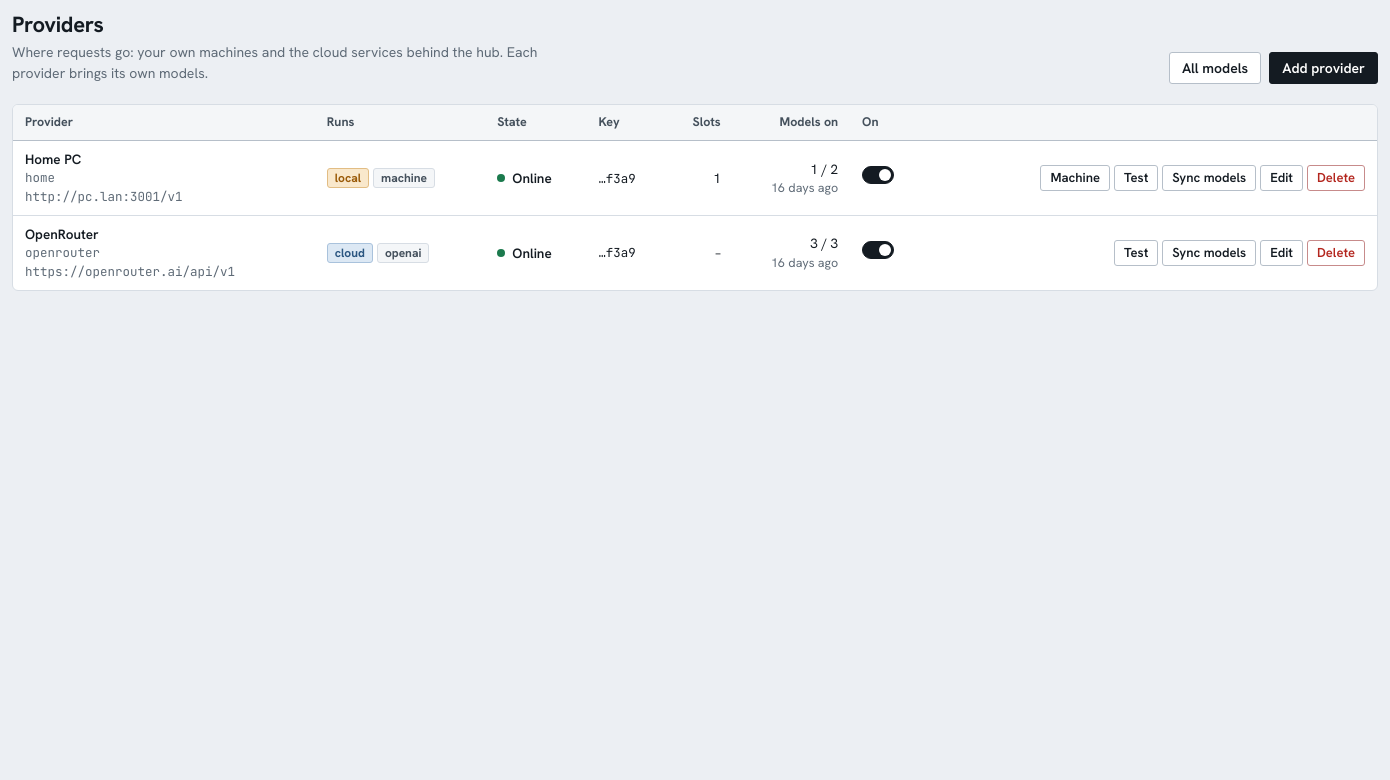
Test: providers › tests a provider and reports both outcomes
This screenshot has width=1390, height=780.
Click the button "Test" in the row of "Home PC" at (1136, 178), box x1=1114 y1=165 x2=1158 y2=191
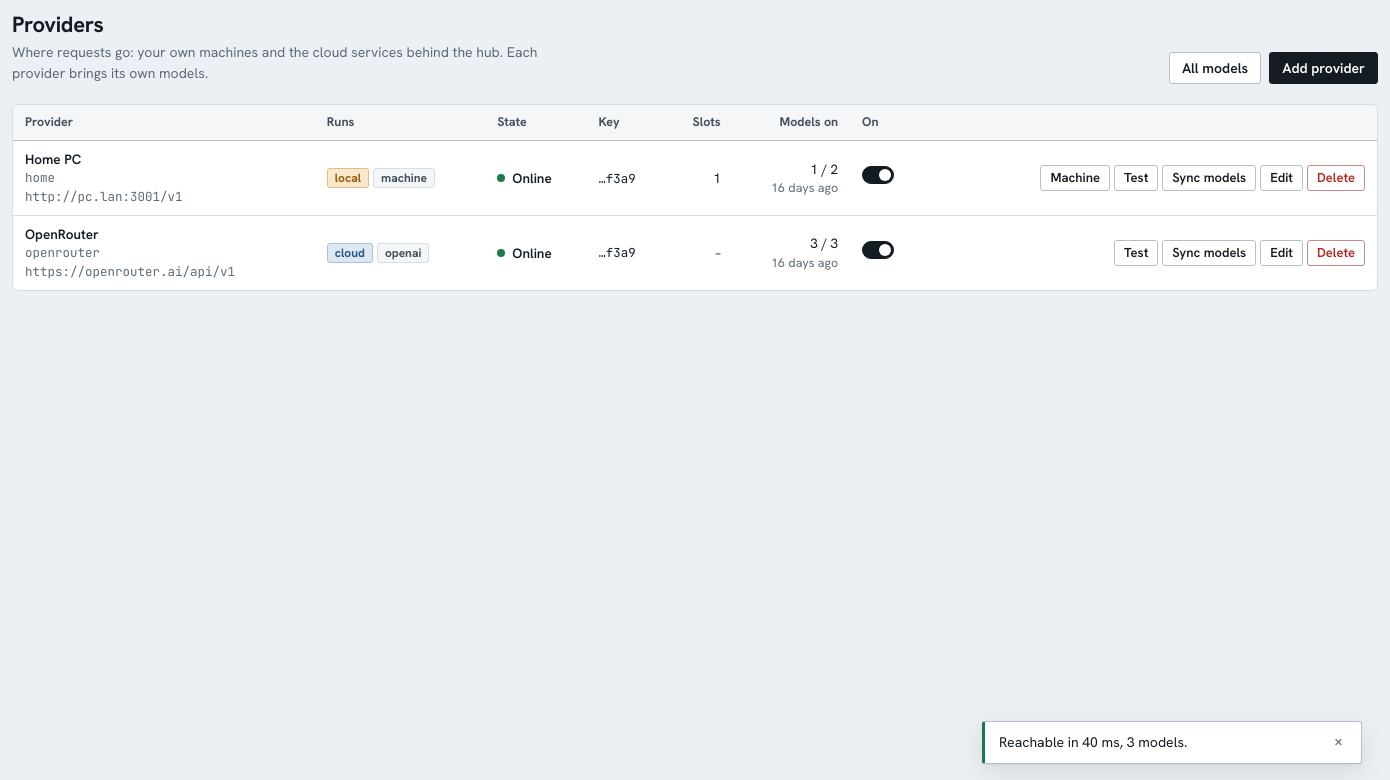
Result: the text "Reachable in 40 ms, 3 models." is shown at x1=999 y1=732 x2=1187 y2=753
Click the button "Test" in the row of "https://openrouter.ai/api/v1" at (1136, 253), box x1=1114 y1=240 x2=1158 y2=266
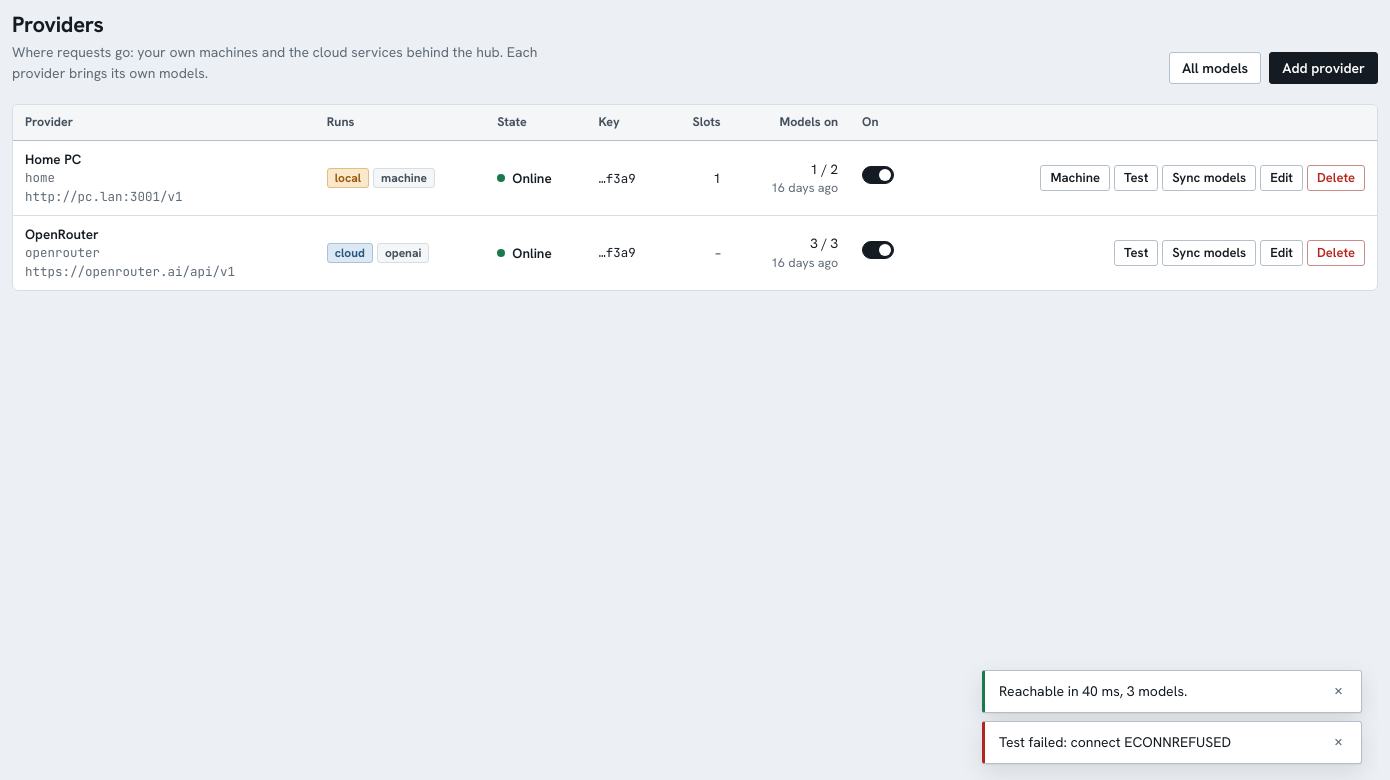
Result: the text "Test failed: connect ECONNREFUSED" is shown at x1=999 y1=732 x2=1231 y2=753
